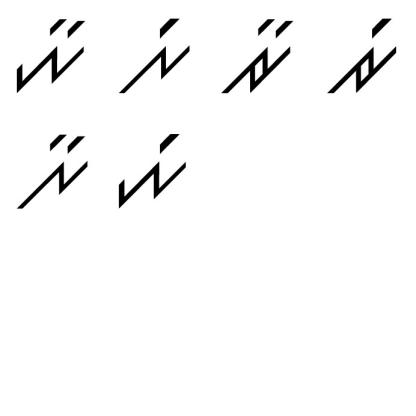lan: (8, 131, 95, 214)
lang: (114, 12, 196, 100)
ran: (219, 14, 301, 100)
rang: (323, 10, 400, 102)
yan: (10, 13, 92, 97)
yang: (109, 126, 190, 214)
